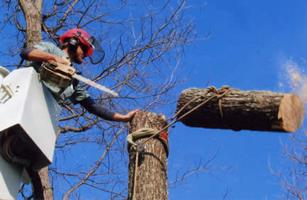person: (19, 28, 143, 124)
